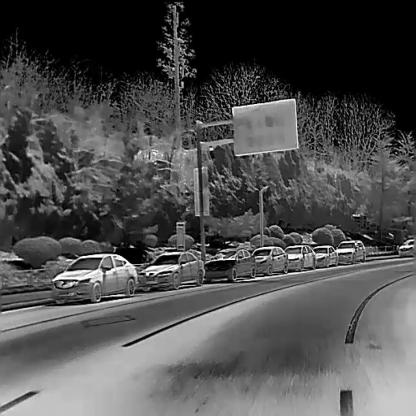car: (51, 252, 136, 300), (138, 252, 204, 289), (204, 247, 256, 279), (251, 245, 288, 273), (283, 244, 316, 268), (336, 238, 365, 262), (310, 245, 338, 266), (398, 237, 415, 255)
